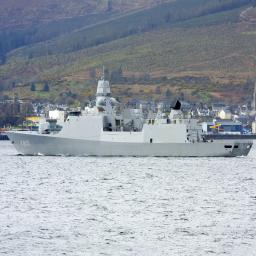Fragata: (4, 64, 255, 159)
